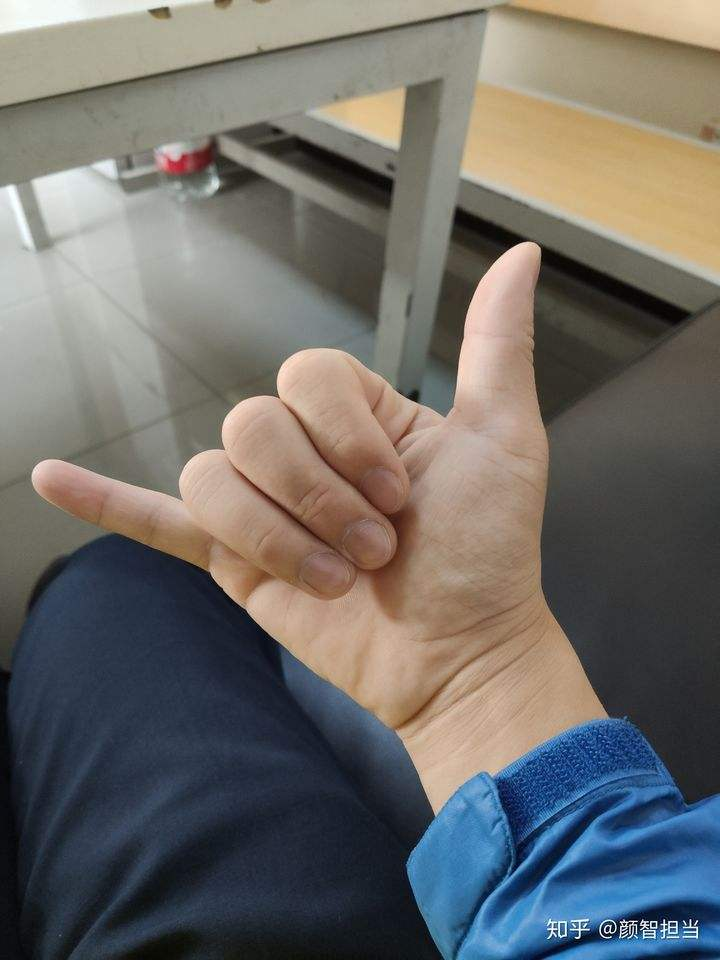clockwise: (29, 229, 560, 732)
